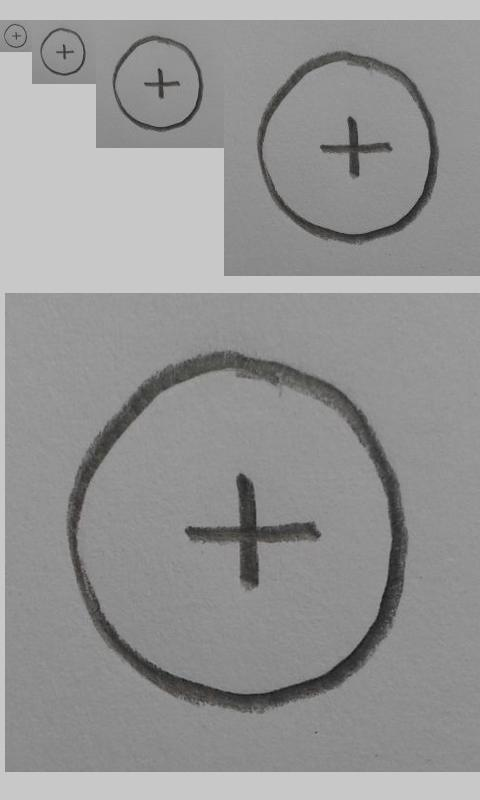button: (64, 347, 411, 714), (257, 51, 440, 246), (112, 35, 205, 132), (40, 28, 86, 76), (3, 23, 28, 48)
